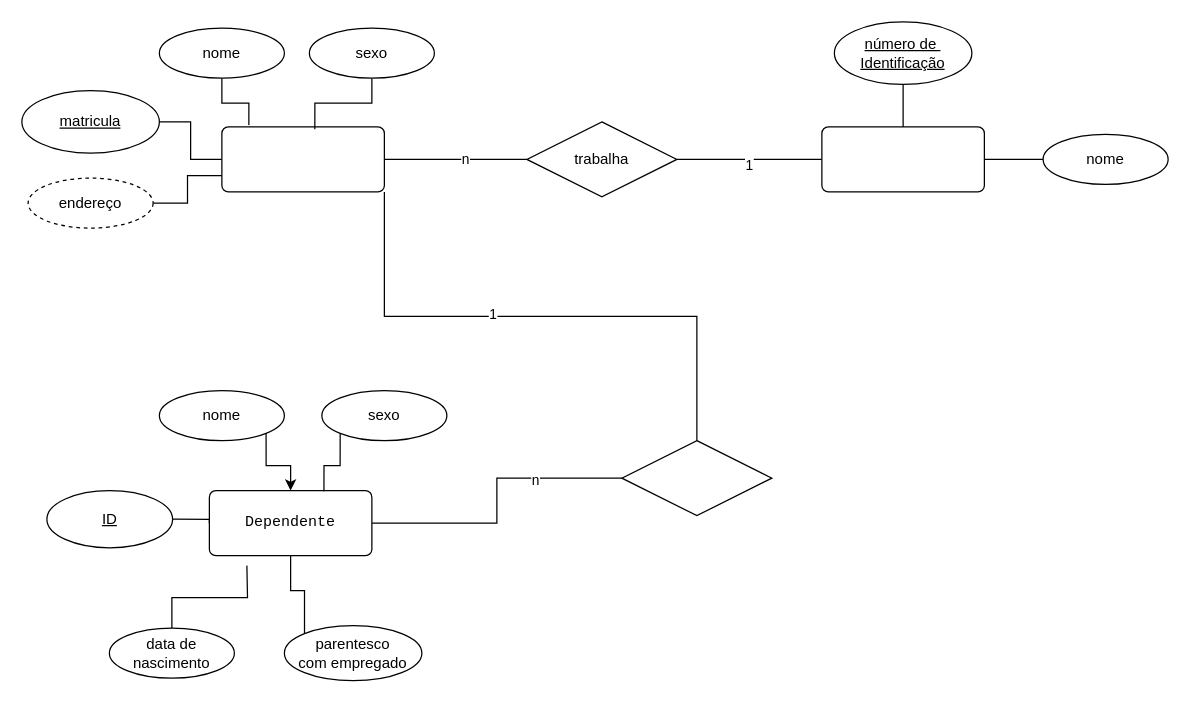
Some shapes in this 1190 by 703 pixel diagram are drawn without their labels. The shapes that lost their labels are listed below. From the top down, each one's box as (x1, y1, x2, y2) in pixels, then its label:
(221, 126, 384, 192): Empregado
(821, 126, 984, 192): Departamento
(621, 439, 772, 516): possui
